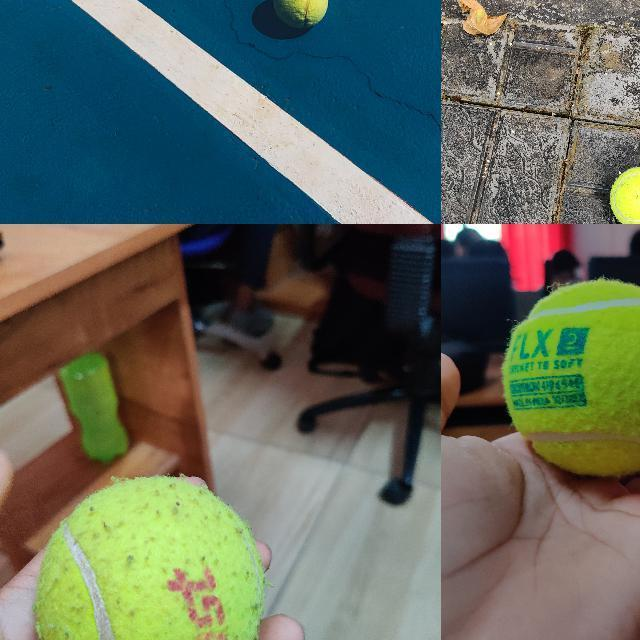tennis-ball: (37, 476, 268, 639), (502, 278, 639, 476), (609, 164, 639, 223), (273, 0, 330, 30)
